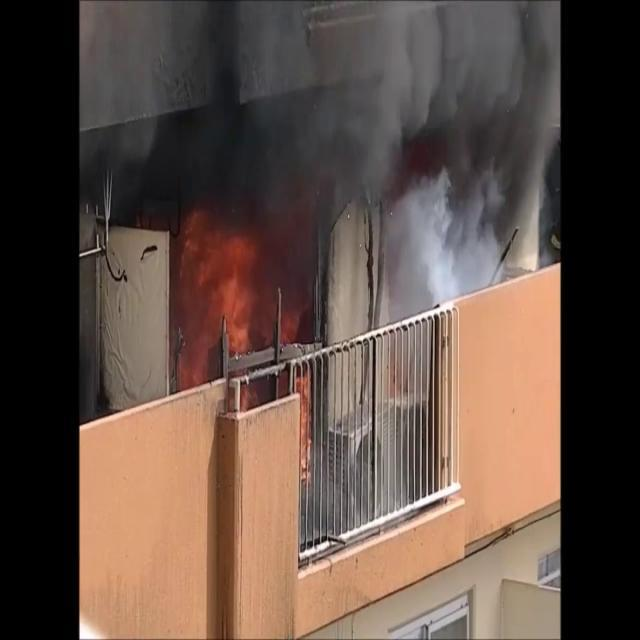Smoke: (82, 0, 560, 276)
